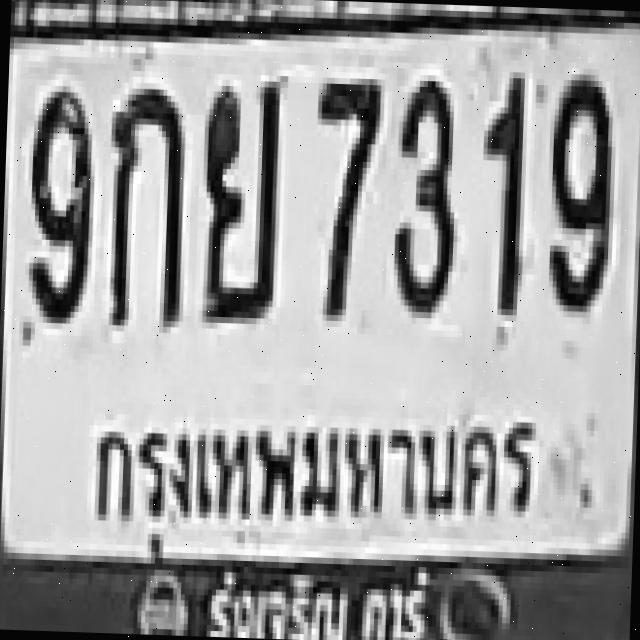1: (474, 70, 524, 308)
10GorGai: (100, 81, 182, 326)
3: (388, 74, 454, 312)
43YorYak: (194, 72, 280, 318)
7: (307, 70, 377, 316)
9: (23, 85, 94, 318), (544, 68, 610, 306)
Bangkok: (72, 368, 547, 581)
